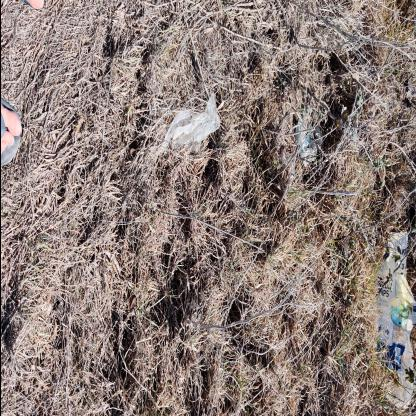plastik: (373, 231, 415, 409), (158, 91, 220, 156)
